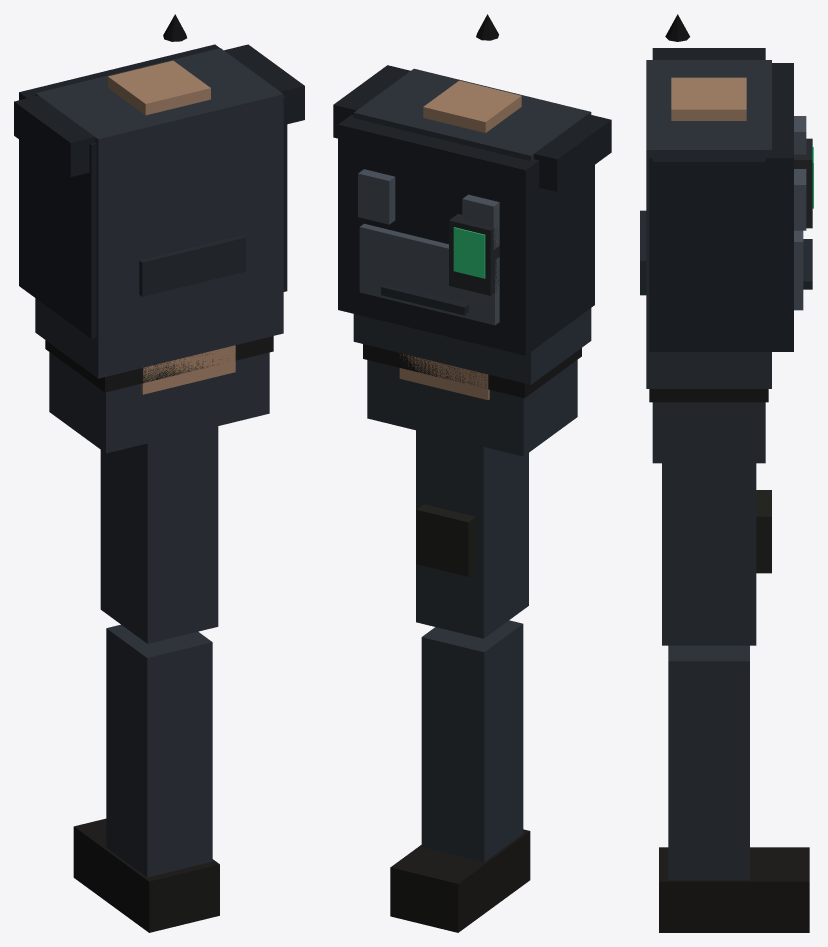
Rendered from operator_pulse.glb.
The picture shows the model from 3 angles, left to right: view 1: azimuth 30°, elevation 25°; view 2: azimuth 150°, elevation 25°; view 3: azimuth 270°, elevation 25°; orthographic projection. The views are drawn at different scales.
Parts seen in each view (by area): view 1: torso, legL, hips, head; view 2: torso, legL, hips, head, torso_glow; view 3: torso, legL, hips, head.
Boxes of the visible parts, <box> form: torso: <box>14,14,304,378</box>; legL: <box>73,426,219,932</box>; hips: <box>45,336,273,453</box>; head: <box>139,235,245,394</box>; torso: <box>333,14,611,384</box>; legL: <box>390,430,530,932</box>; hips: <box>363,344,581,456</box>; head: <box>381,284,489,400</box>; torso_glow: <box>453,227,485,278</box>; torso: <box>646,14,812,388</box>; legL: <box>659,463,809,932</box>; hips: <box>649,389,768,463</box>; head: <box>640,210,812,295</box>.
Bounding box in the file's own units: 0.43 × 1.58 × 0.277.
